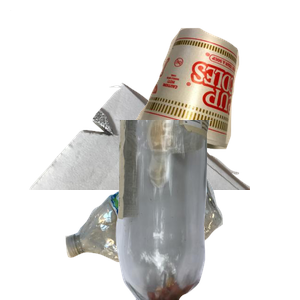glass: (113, 120, 300, 300)
paper: (10, 10, 250, 190)
plastic: (63, 170, 278, 300)
trash: (133, 25, 300, 167)
